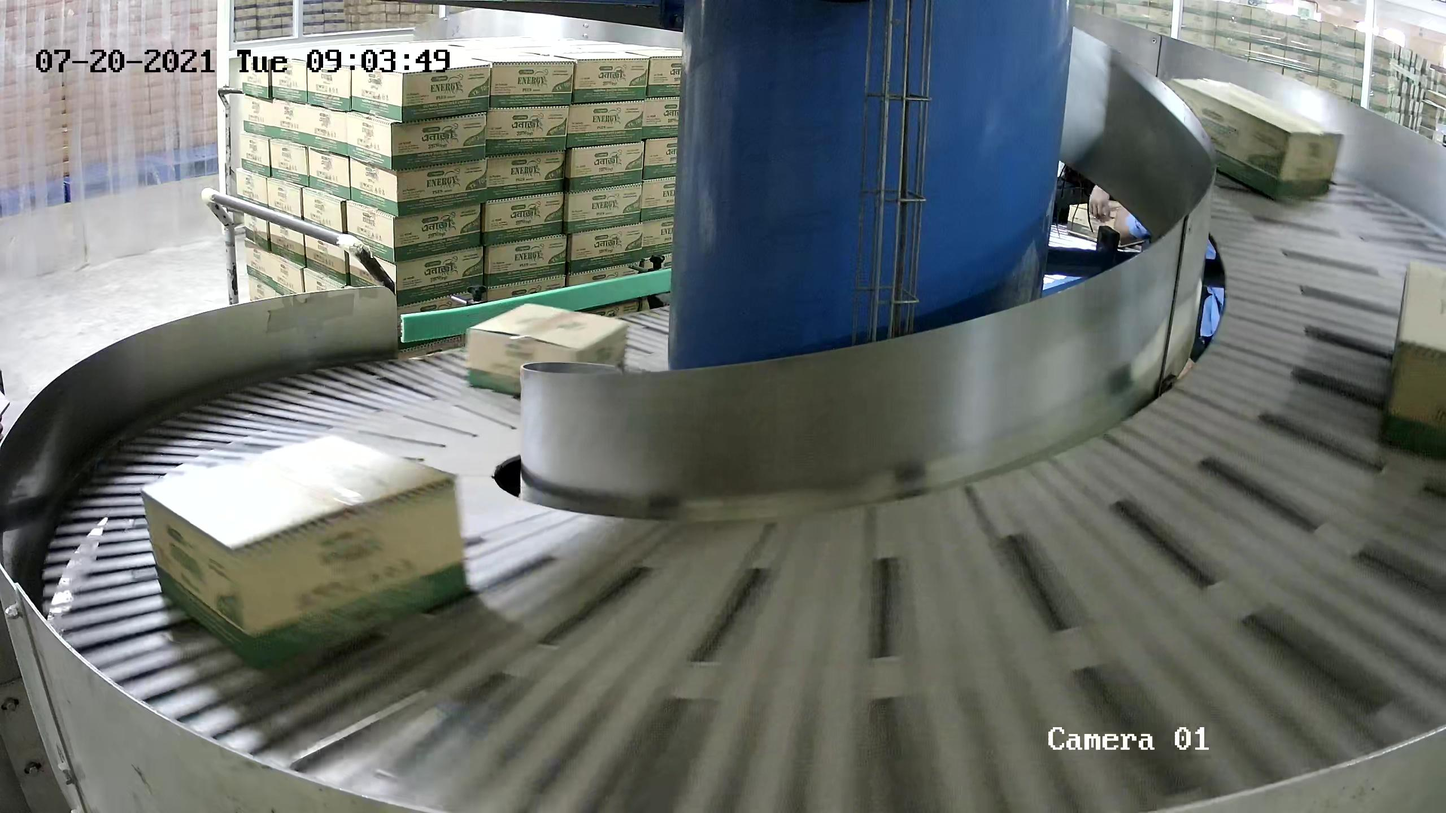Box: (143, 433, 471, 673), (1152, 75, 1347, 202), (467, 302, 629, 408), (1374, 261, 1446, 470)
